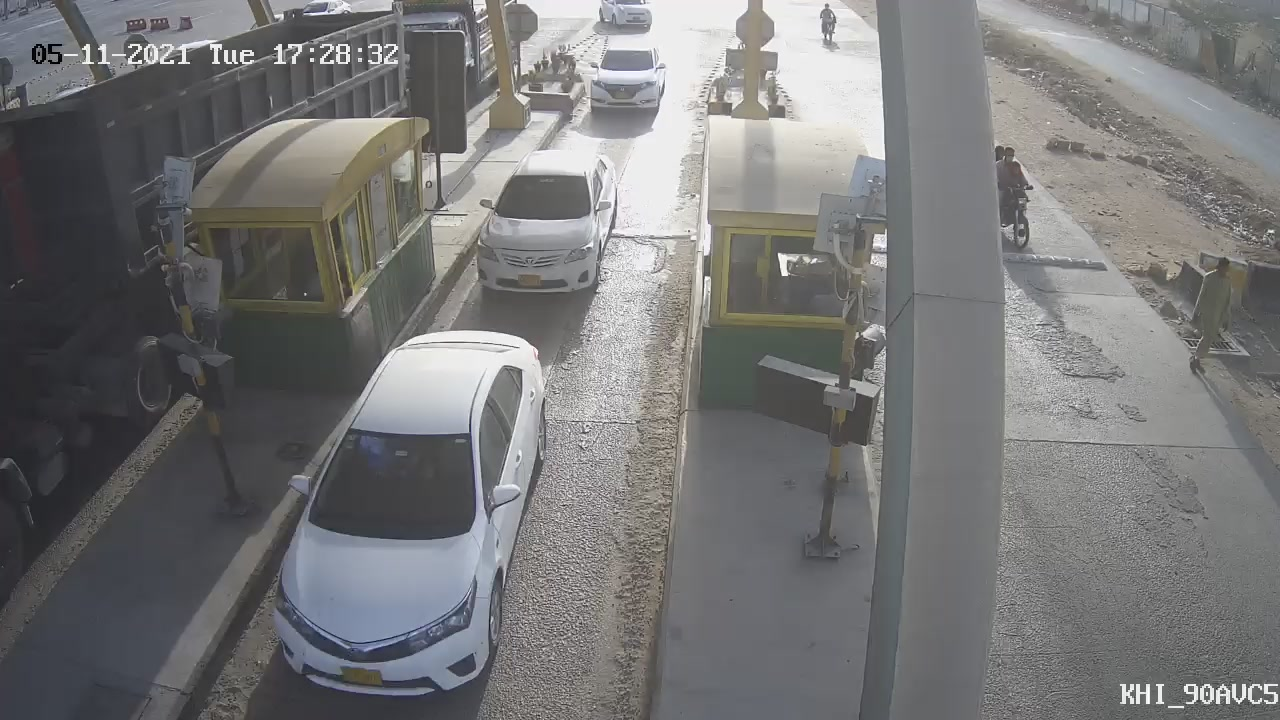F1: (455, 130, 638, 317)
